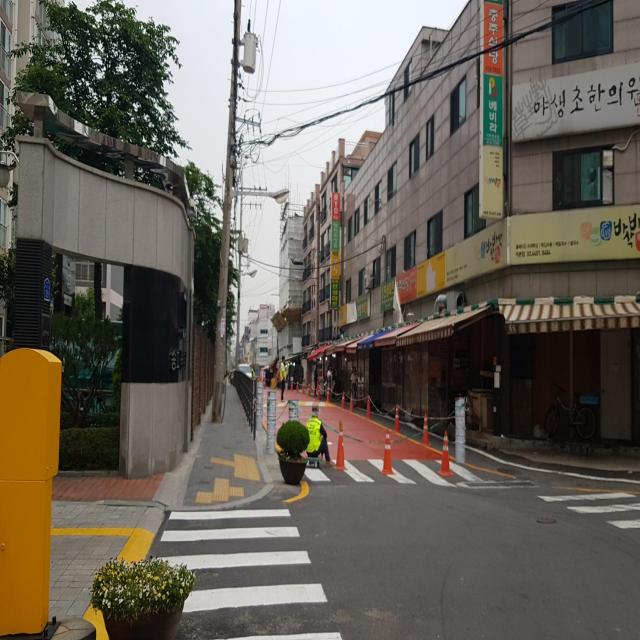횡단보도: (153, 505, 344, 640), (300, 457, 495, 488)
